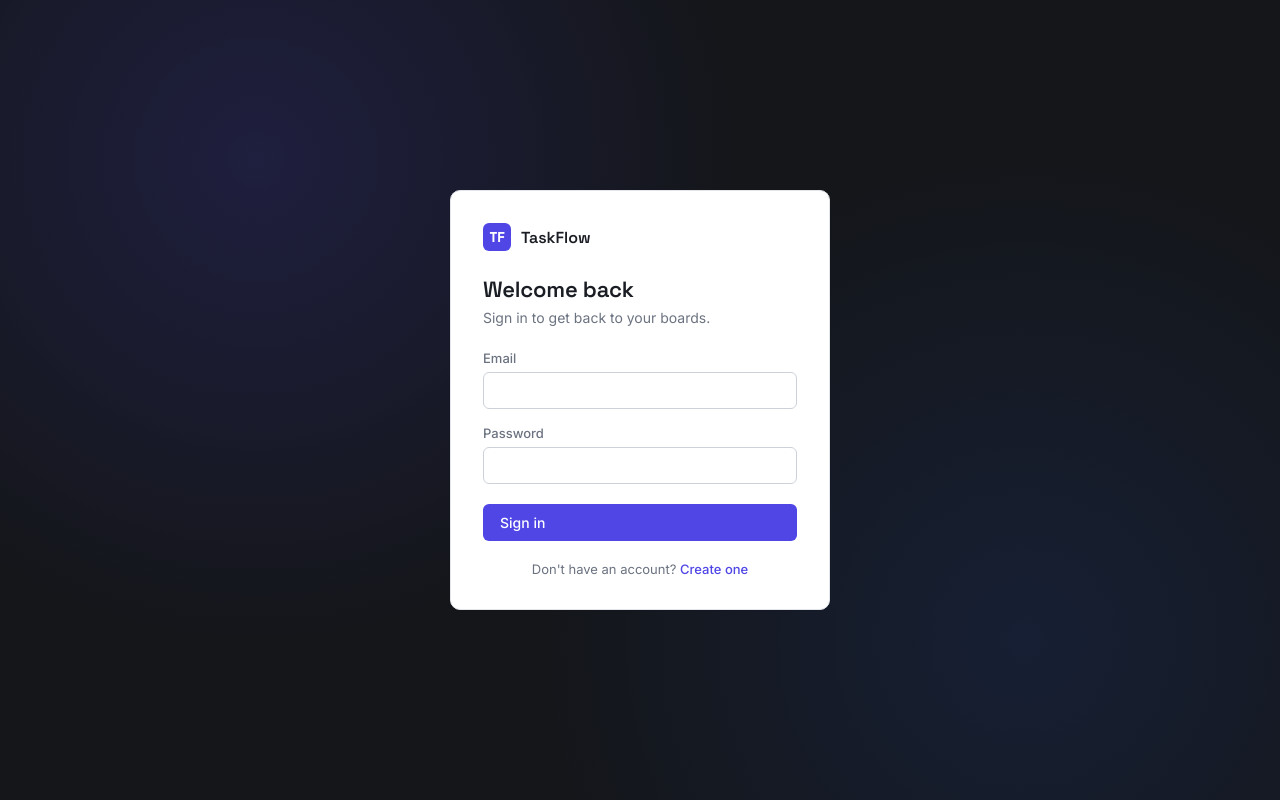
it: LoginPage › shows an error message when login fails
Type "ada@example.com" into the field labelled "Email".
click(640, 390); type("ada@example.com")  # box [483, 372, 797, 409]
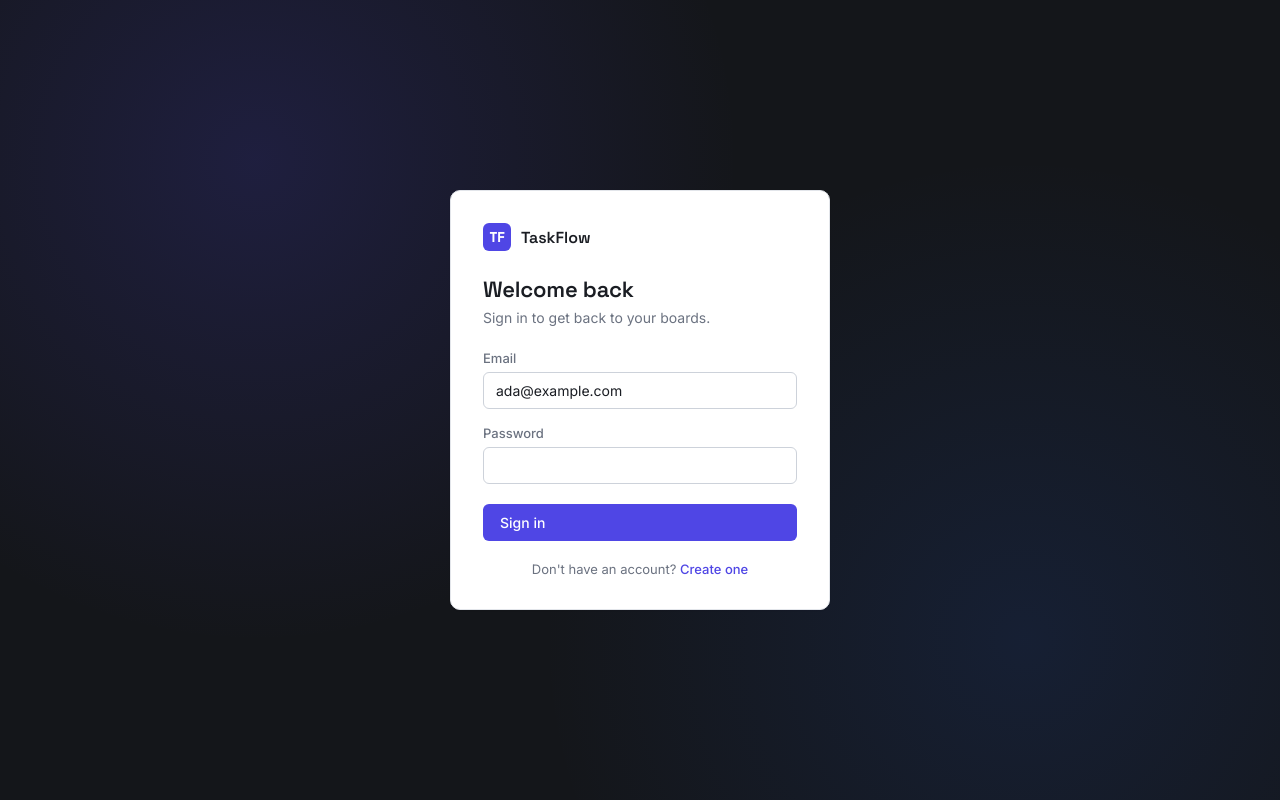
Type "wrongpass" into the password field labelled "Password".
click(640, 466); type("wrongpass")  # box [483, 447, 797, 484]
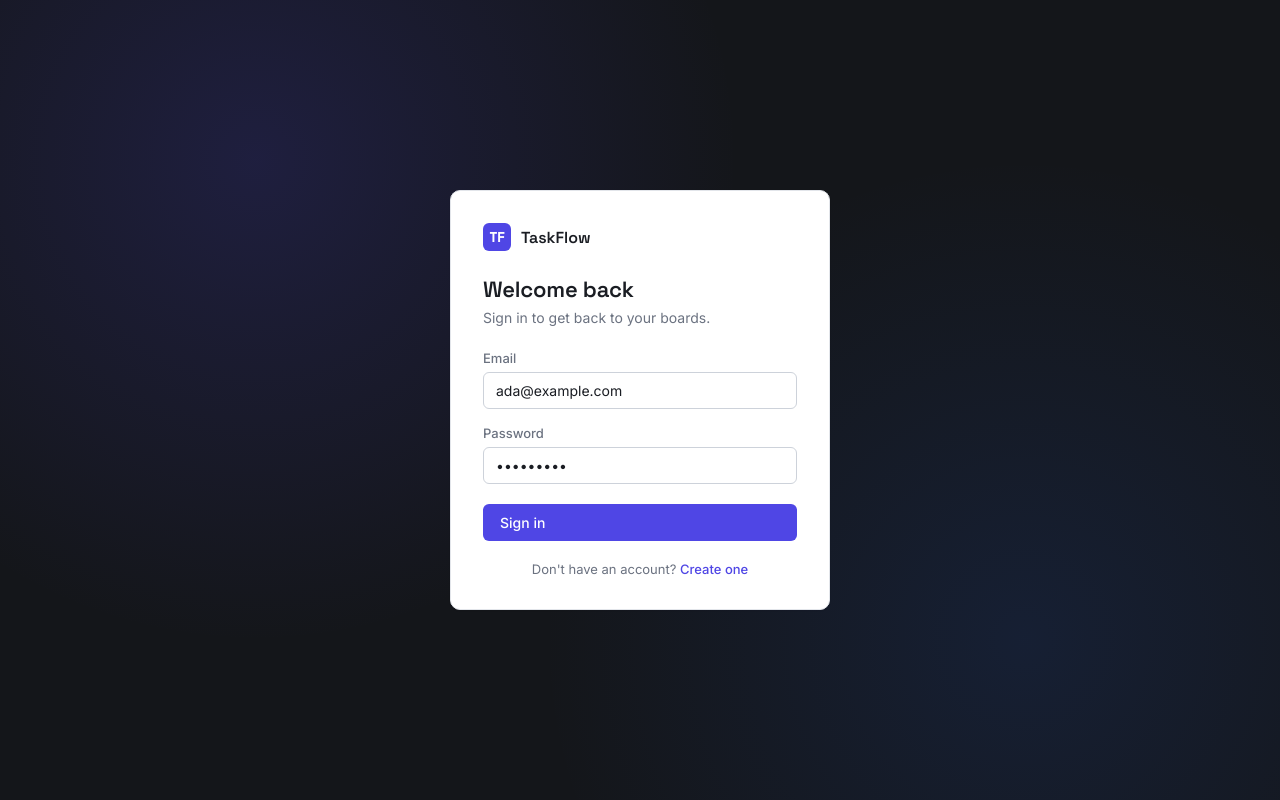
Click the button "Sign in".
click(523, 522)  # box [483, 504, 797, 541]
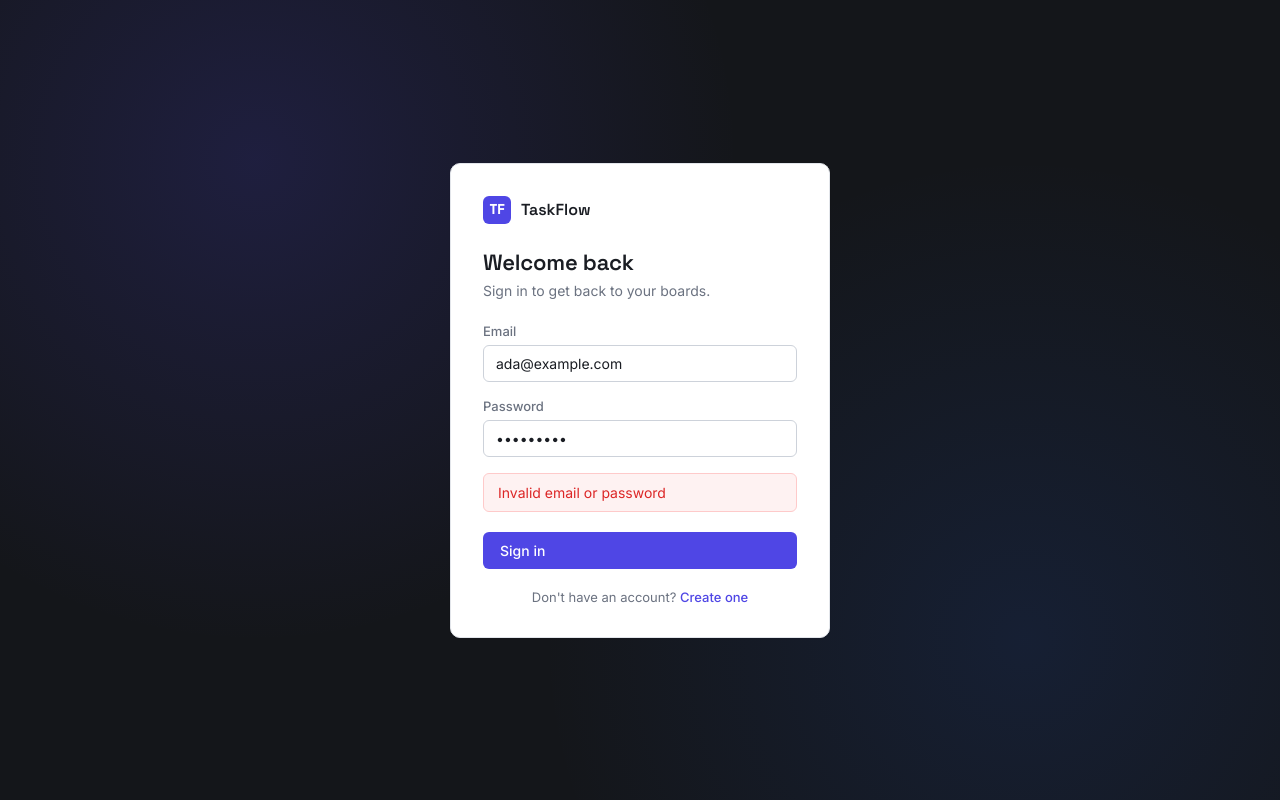
Expected: the message reads "Invalid email or password", [498, 484, 666, 500]
